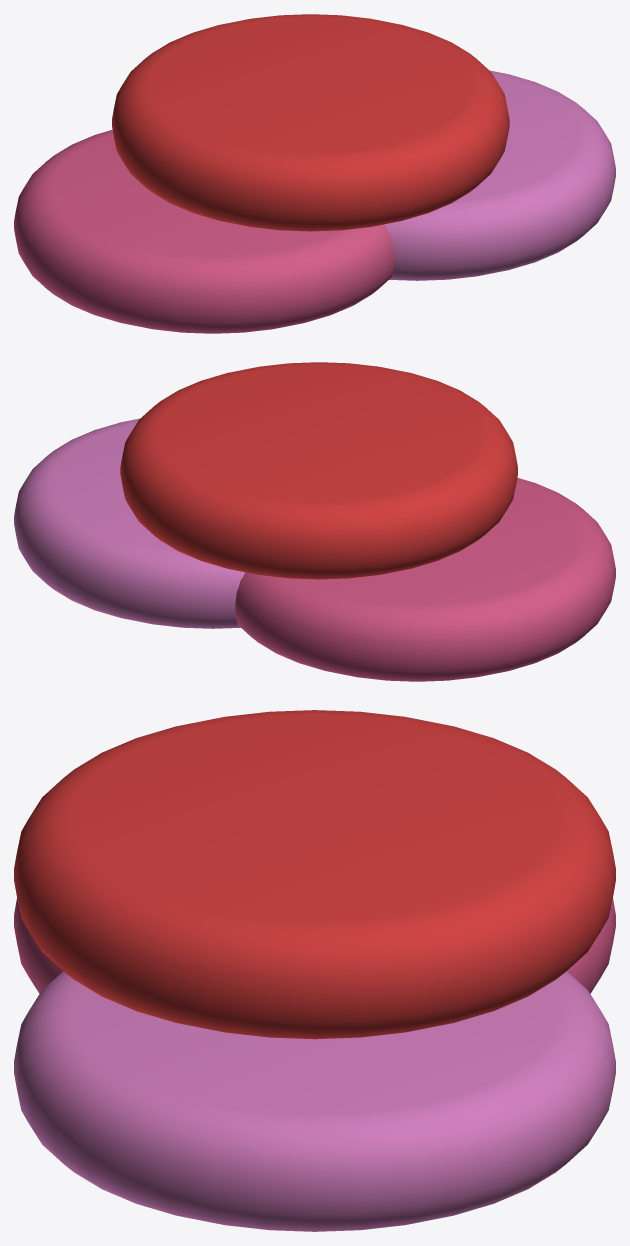
File: smallstair.fbx
3 views of the same model, one above another, from view 1: azimuth 30°, elevation 25°; view 2: azimuth 150°, elevation 25°; view 3: azimuth 270°, elevation 25° (orthographic). The views are drawn at different scales.
Visible parts, largest first — view 1: 円柱_1, 円柱, 円柱_2; view 2: 円柱_1, 円柱, 円柱_2; view 3: 円柱_1, 円柱_2, 円柱.
Boxes of the visible parts, bbox=[...] form: 円柱_1: bbox=[112, 14, 509, 231]; 円柱: bbox=[14, 130, 394, 333]; 円柱_2: bbox=[385, 70, 615, 280]; 円柱_1: bbox=[120, 362, 517, 579]; 円柱: bbox=[235, 478, 615, 681]; 円柱_2: bbox=[14, 418, 244, 628]; 円柱_1: bbox=[14, 710, 615, 1039]; 円柱_2: bbox=[14, 971, 615, 1231]; 円柱: bbox=[14, 898, 615, 993].
Size of the model in its own units: 366 by 97.16 by 230.
